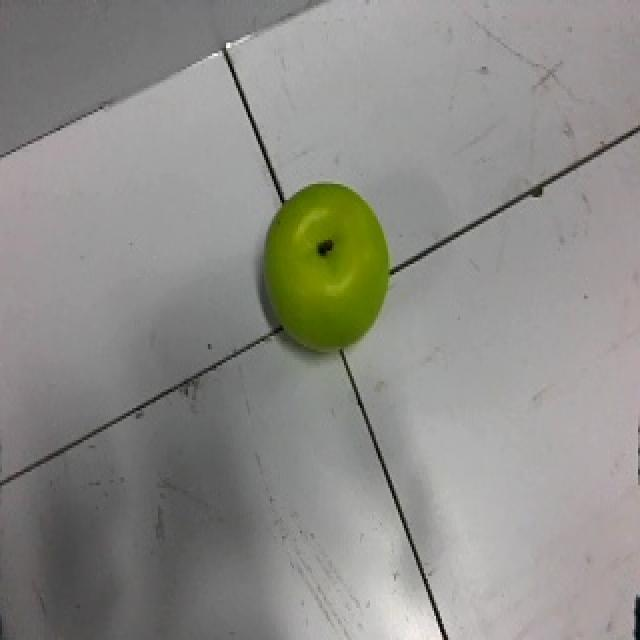apple: (261, 180, 405, 354)
